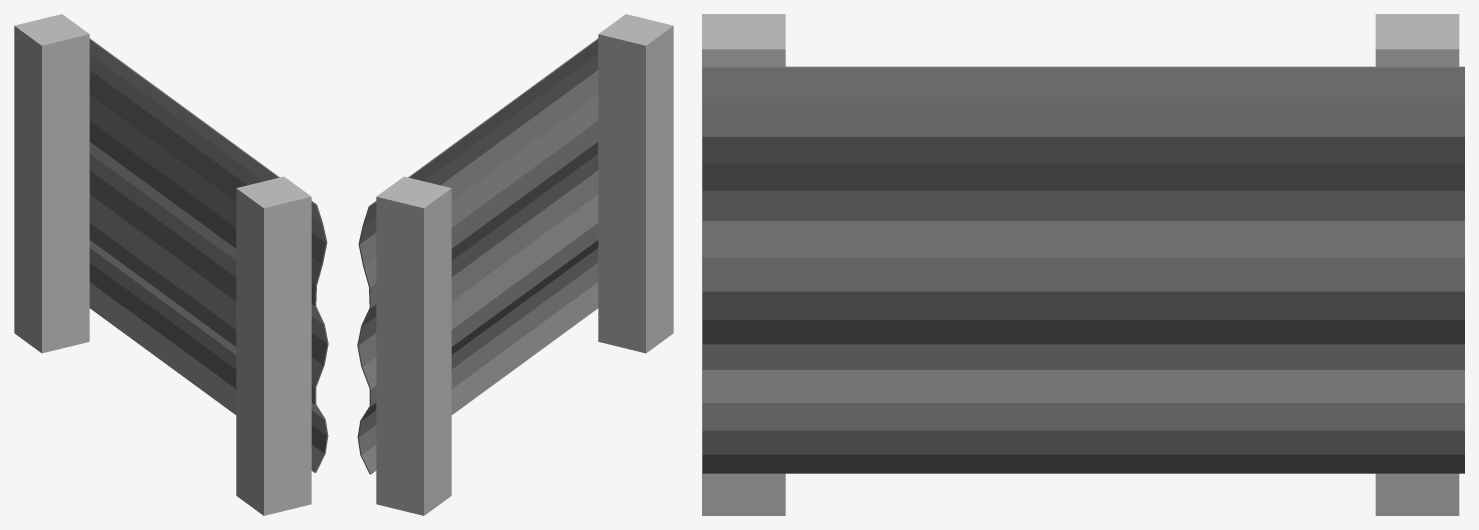
The model's file is Fence.fbx.
3 views of the same model, side by side, from view 1: azimuth 30°, elevation 25°; view 2: azimuth 150°, elevation 25°; view 3: azimuth 270°, elevation 25° (orthographic). The views are drawn at different scales.
Visible parts, largest first — view 1: Cube; view 2: Cube; view 3: Cube.
Part boxes in pixels (x1,y1,x2,y2): Cube: (14,14,328,515); Cube: (357,14,673,515); Cube: (702,14,1464,515).
Bounding box in the file's own units: 39.67 × 179 × 266.
Materials: 1 (1 with a texture image).
